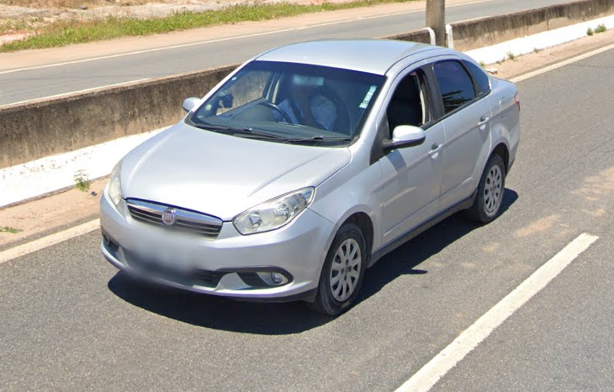car: (97, 37, 522, 318)
